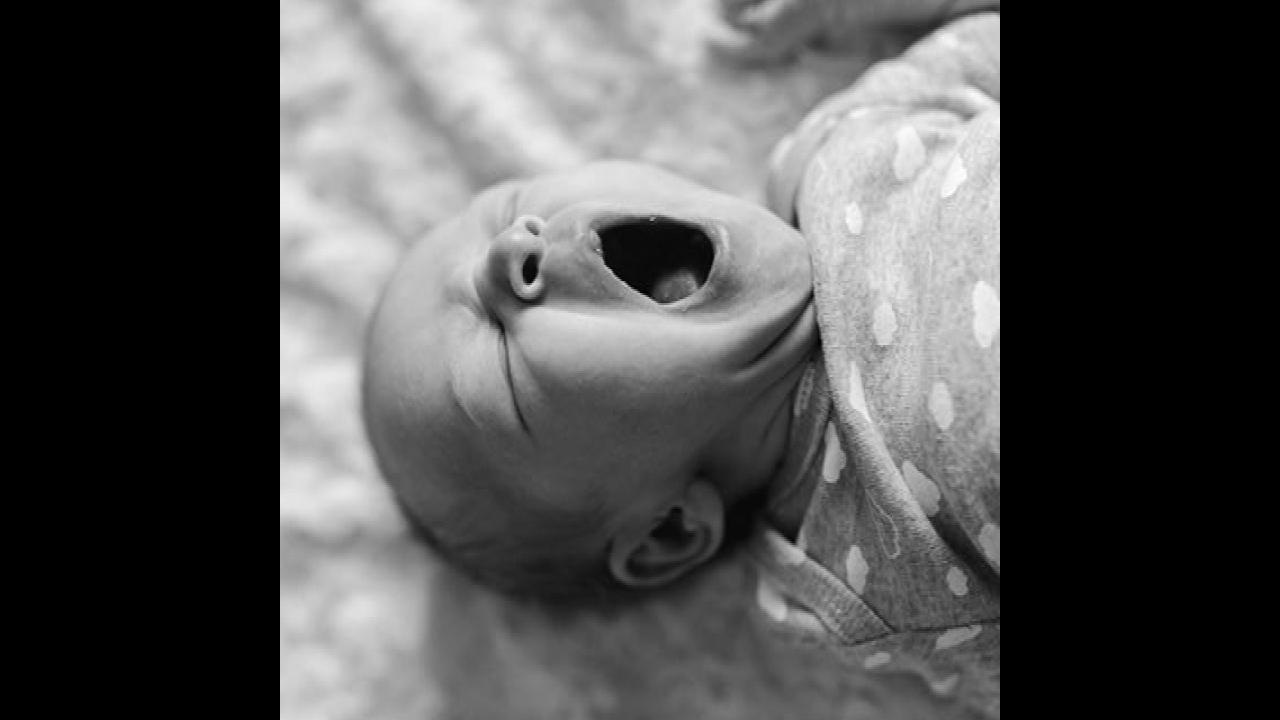hand: (704, 0, 815, 68)
